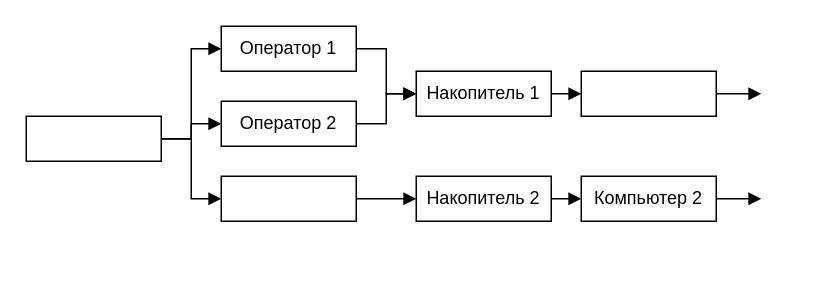
Some shapes in this 833 by 308 pixel diagram are drawn without their labels. The shapes that lost their labels are listed below. From the top down, each one's box as (x1, y1, x2, y2) in pixels, then its label:
(580, 70, 716, 116): Компьютер 1
(25, 115, 161, 161): Клиенты
(220, 175, 356, 221): Оператор 3
